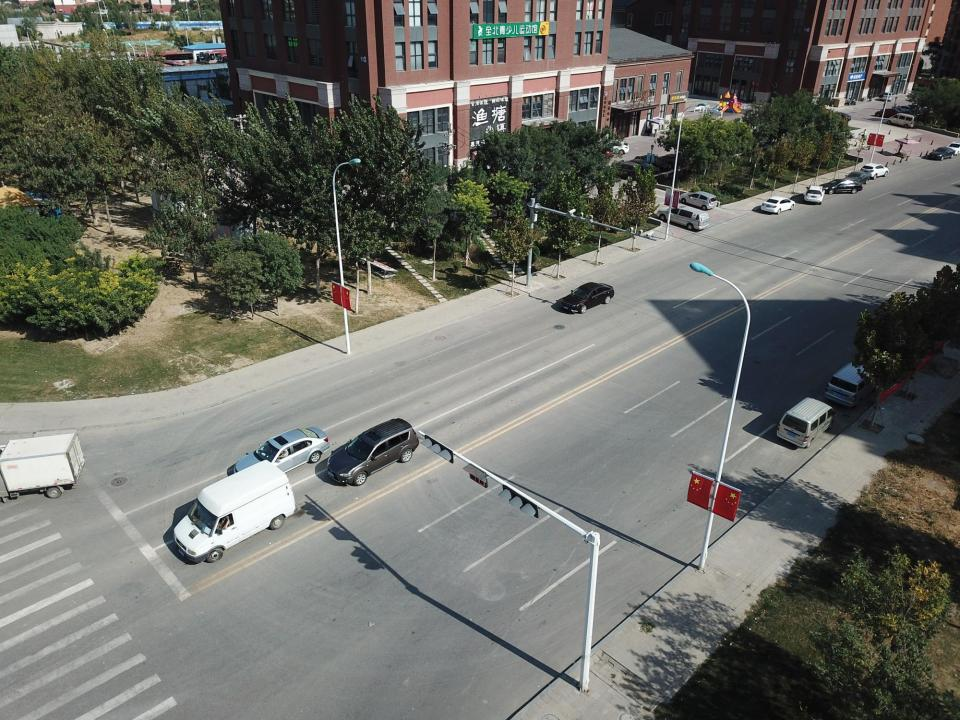bus: (204, 52, 250, 66), (199, 49, 238, 65), (152, 51, 196, 65), (215, 52, 256, 66), (224, 54, 262, 68)
car: (326, 418, 420, 487), (234, 426, 330, 480), (560, 282, 615, 313), (656, 203, 710, 231), (620, 159, 662, 179), (678, 190, 718, 210), (634, 154, 672, 174), (817, 178, 863, 194), (760, 195, 795, 214), (552, 179, 594, 194), (660, 154, 694, 170), (859, 162, 889, 180), (840, 171, 870, 186), (598, 141, 629, 155), (804, 185, 825, 205), (928, 146, 956, 161), (874, 108, 903, 120), (886, 106, 908, 120), (895, 105, 917, 118), (828, 112, 851, 124), (902, 104, 928, 114), (946, 141, 960, 156), (878, 92, 894, 102)
truck: (0, 432, 86, 506)
van: (172, 459, 298, 564), (824, 357, 888, 410), (775, 396, 838, 449), (610, 162, 644, 182), (886, 112, 917, 128)
